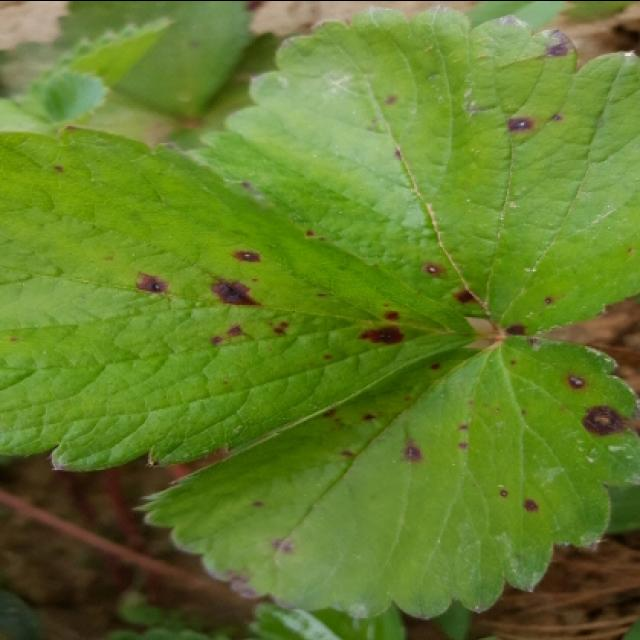Leaf Spot: (0, 121, 479, 473), (182, 0, 638, 335), (130, 335, 638, 621), (51, 0, 258, 127)
